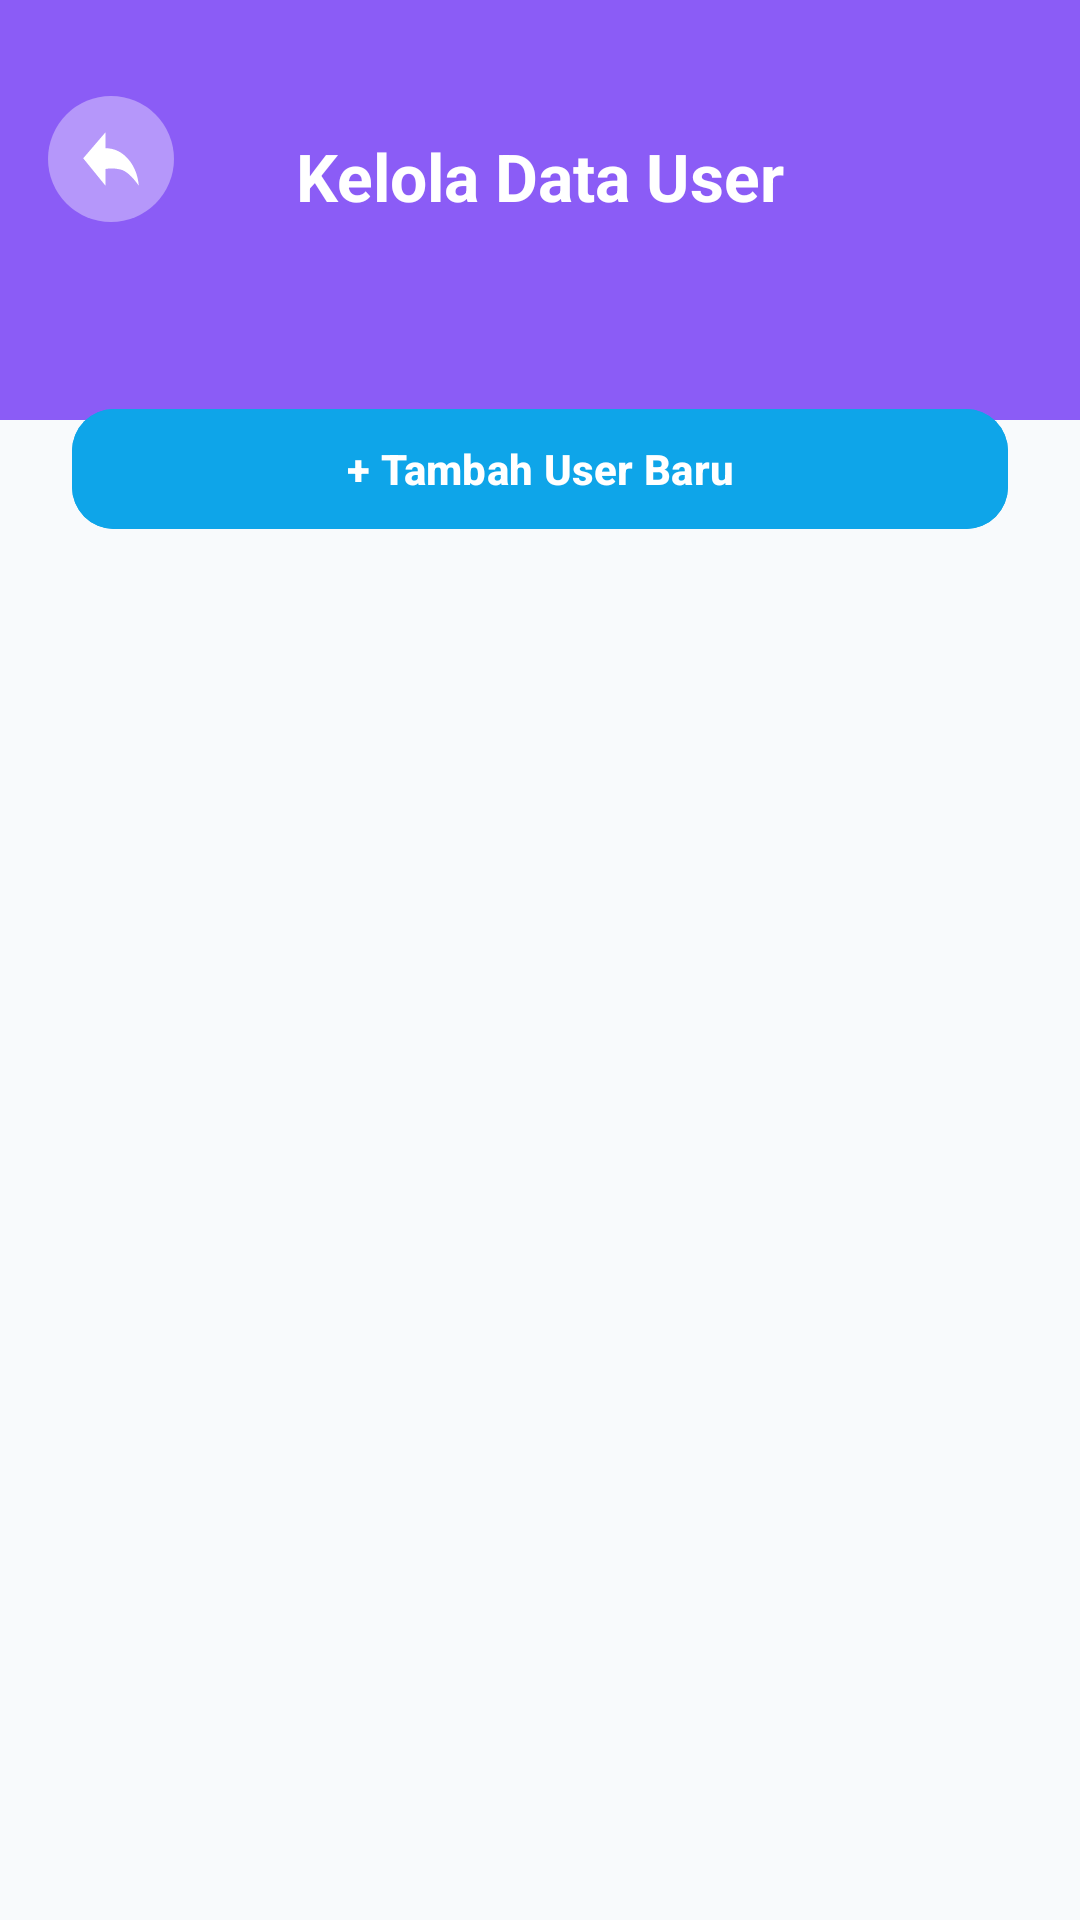

Screen size 1080 × 1920. Icon name, then its box in pixels as bbox=(x1, y1, x2, y2):
back: bbox=(48, 96, 174, 222)
